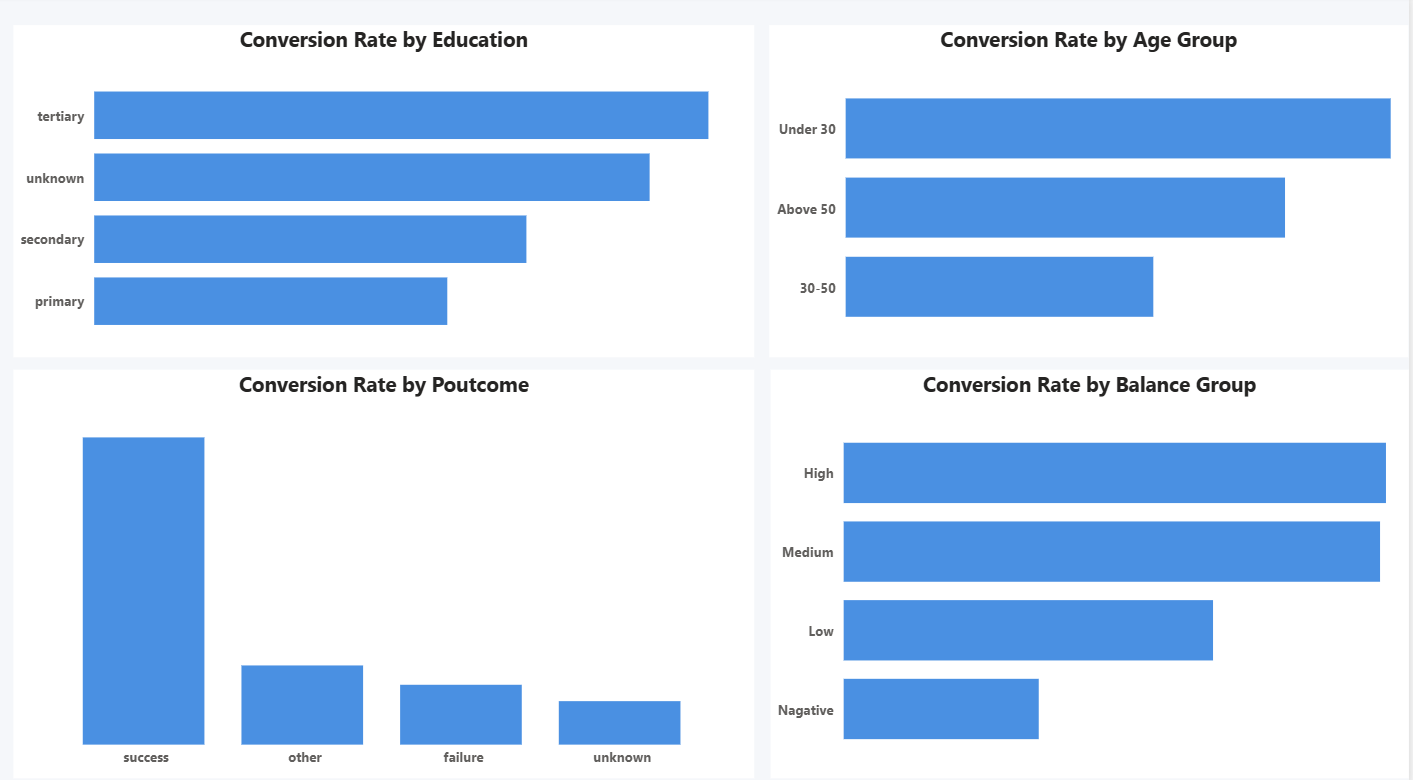

The dashboard page shown, as its layout file describes it:
{"tool":"powerbi","page":{"name":"Customer Segment Conversion Analysis","canvas":[1280,720],"ordinal":1},"visuals":[{"type":"columnChart","fields":{"Category":["bank-full.Poutcome"],"Y":["bank-full.Conversion Rate"]},"box":[13.7,340.1,672.7,371.1],"z":2},{"type":"barChart","fields":{"Category":["bank-full.Balance Group"],"Y":["bank-full.Conversion Rate"]},"box":[700.5,340.1,579.2,371.1],"z":3},{"type":"barChart","fields":{"Category":["bank-full.Age Group"],"Y":["bank-full.Conversion Rate"]},"box":[699.4,26.8,580.1,301.2],"z":4},{"type":"barChart","fields":{"Category":["bank-full.Education"],"Y":["bank-full.Conversion Rate"]},"box":[13.4,26.8,672.5,301.2],"z":5}]}

Visuals, with their boxes in screenshot pixels (x1, y1, x2, y2), scaled from the page's 1280x720 canvas onto the 1413x780 screenshot:
columnChart - bank-full.Poutcome x bank-full.Conversion Rate: 15/368/758/770
barChart - bank-full.Balance Group x bank-full.Conversion Rate: 773/368/1412/770
barChart - bank-full.Age Group x bank-full.Conversion Rate: 772/29/1412/355
barChart - bank-full.Education x bank-full.Conversion Rate: 15/29/757/355
